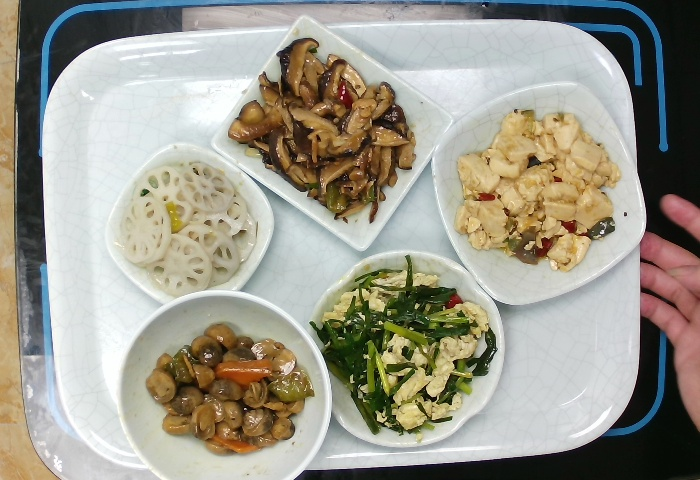JYsf-Ao_Yuan_Wan: (309, 249, 507, 449)
JYsf-Fan_Wan: (114, 289, 334, 480)
JYsf-Si_Fang_Die: (103, 141, 274, 310)
WCQzf-Da_Si_Fang_Die: (430, 79, 650, 307)
WCQzf-Ru_Ci_Si_Fang_Die: (211, 13, 455, 253)
